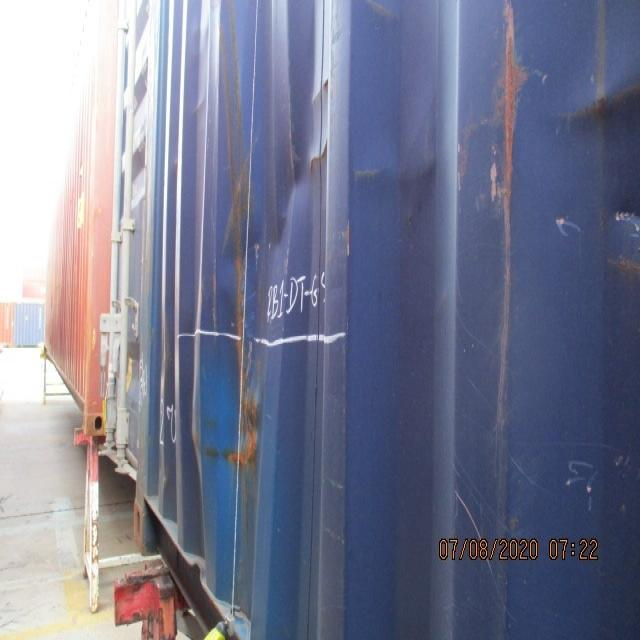dent: (180, 30, 338, 519), (565, 63, 640, 129), (602, 186, 640, 293)
